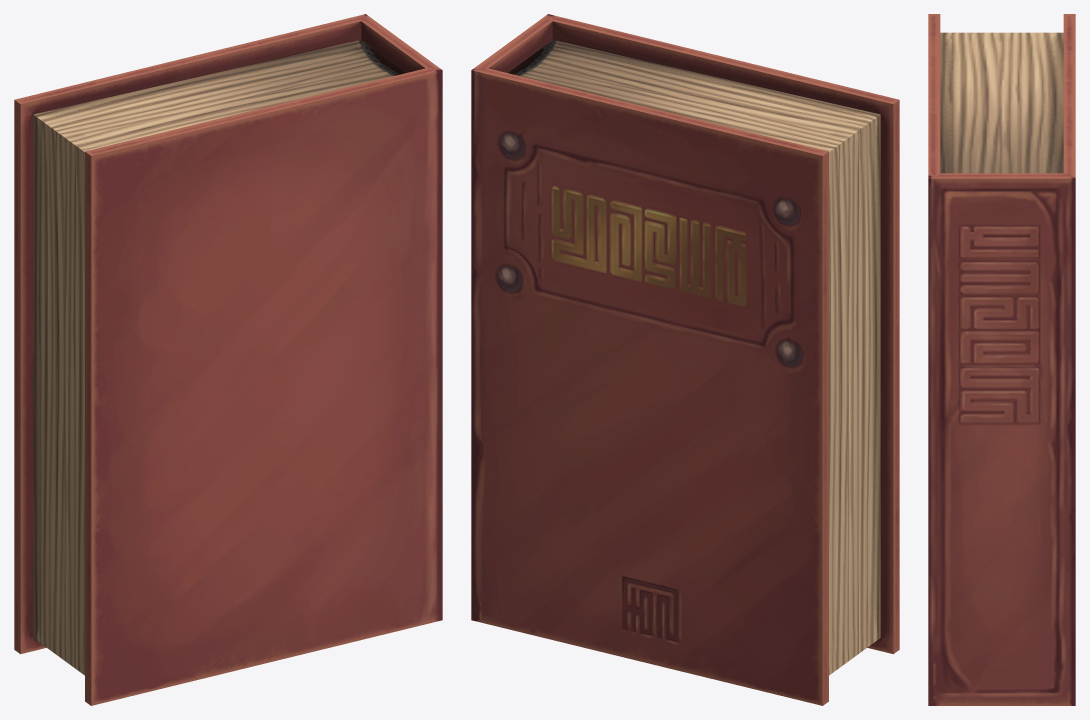
Rendered from FirstBook.glb.
The picture shows the model from 3 angles, left to right: view 1: azimuth 30°, elevation 25°; view 2: azimuth 150°, elevation 25°; view 3: azimuth 270°, elevation 25°; orthographic projection. The views are drawn at different scales.
Parts seen in each view (by area): view 1: book; view 2: book; view 3: book.
Boxes of the visible parts, box(x1,y1,x2,y2) form: book: box(14, 14, 442, 705); book: box(471, 14, 899, 705); book: box(928, 14, 1075, 705).
Bounding box in the file's own units: 3.91 × 5.84 × 1.48.
1 material, 1 textured.
